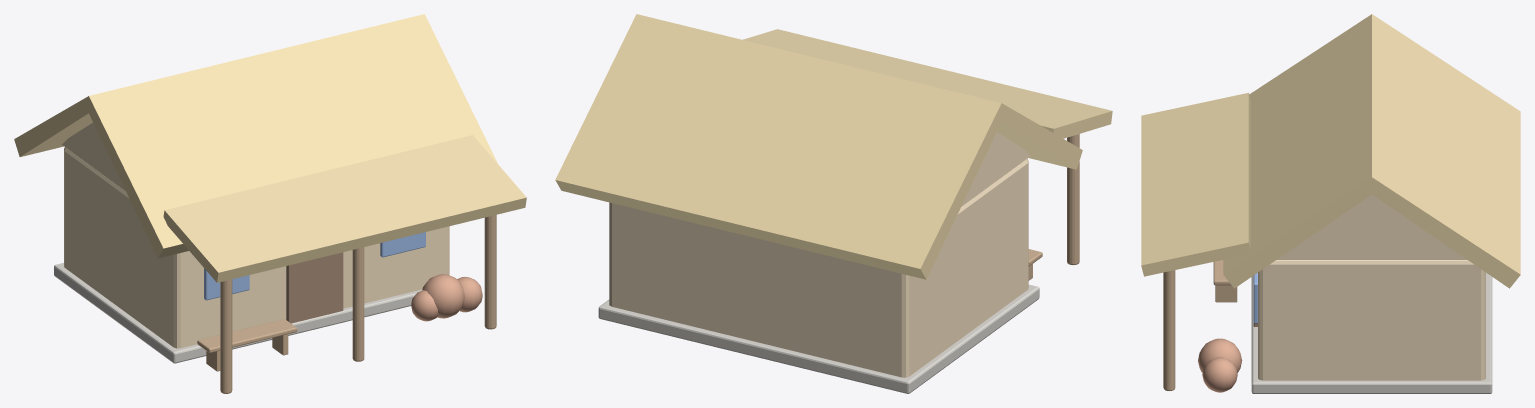
Rendered from camp_rancho.glb.
The picture shows the model from 3 angles, left to right: view 1: azimuth 30°, elevation 25°; view 2: azimuth 150°, elevation 25°; view 3: azimuth 270°, elevation 25°; orthographic projection. The views are drawn at different scales.
Parts seen in each view (by area): view 1: camp_rancho; view 2: camp_rancho; view 3: camp_rancho.
Boxes of the visible parts, x1,y1,x2,y2 form: camp_rancho: [14, 14, 526, 393]; camp_rancho: [555, 14, 1112, 393]; camp_rancho: [1141, 14, 1520, 393].
Size of the model in its own units: 6.1 by 4.03 by 6.
